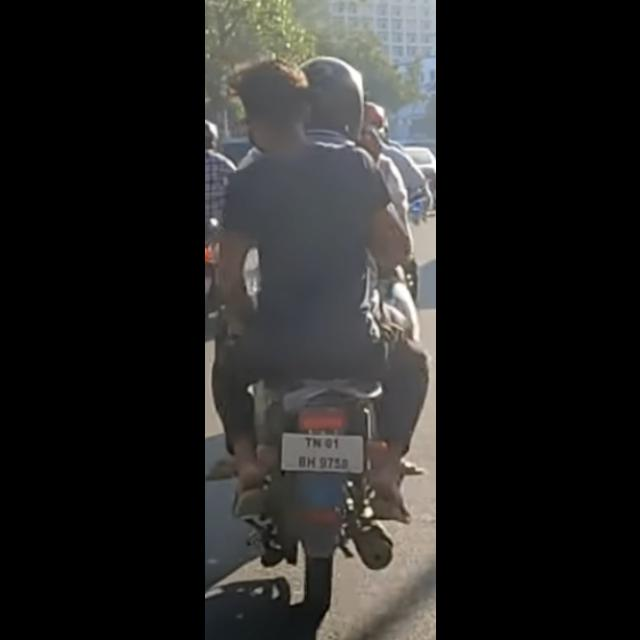with helmet: (301, 56, 361, 138)
without helmet: (231, 58, 301, 148)
